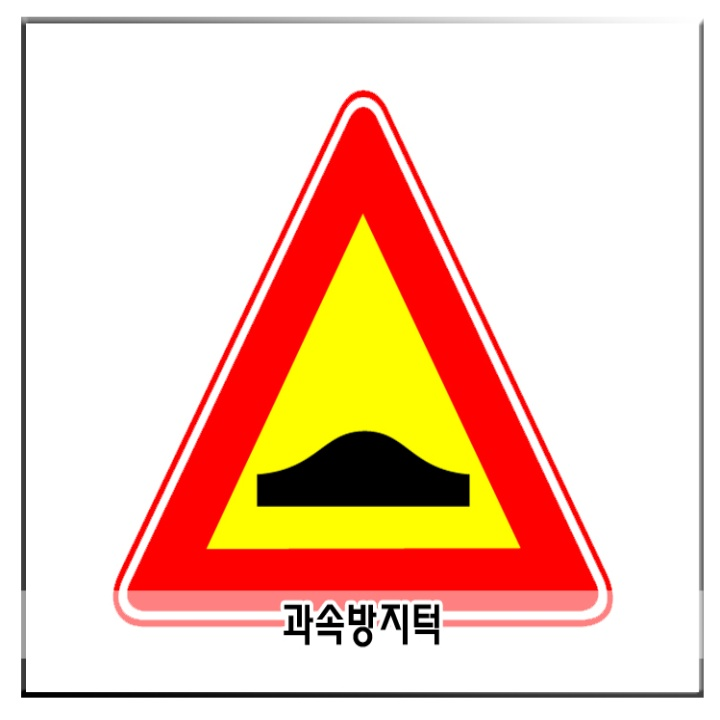bump: (245, 418, 488, 516)
